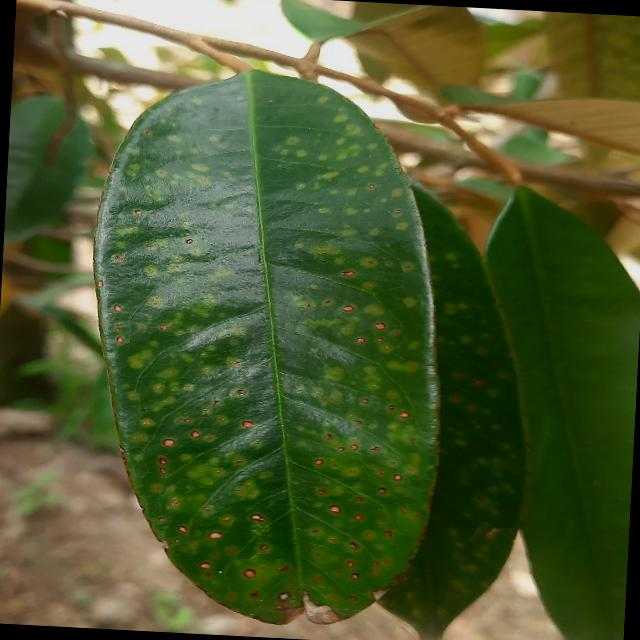Leaf Spot: (68, 53, 555, 639)
